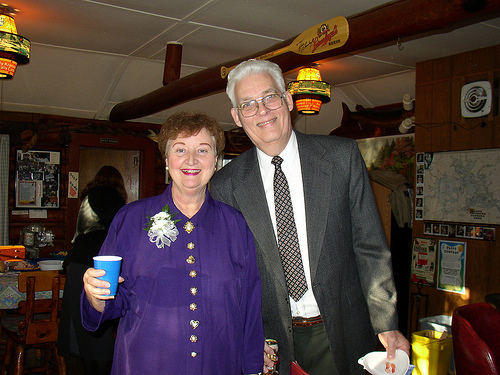without_mask: (228, 73, 294, 146), (165, 123, 222, 191)
